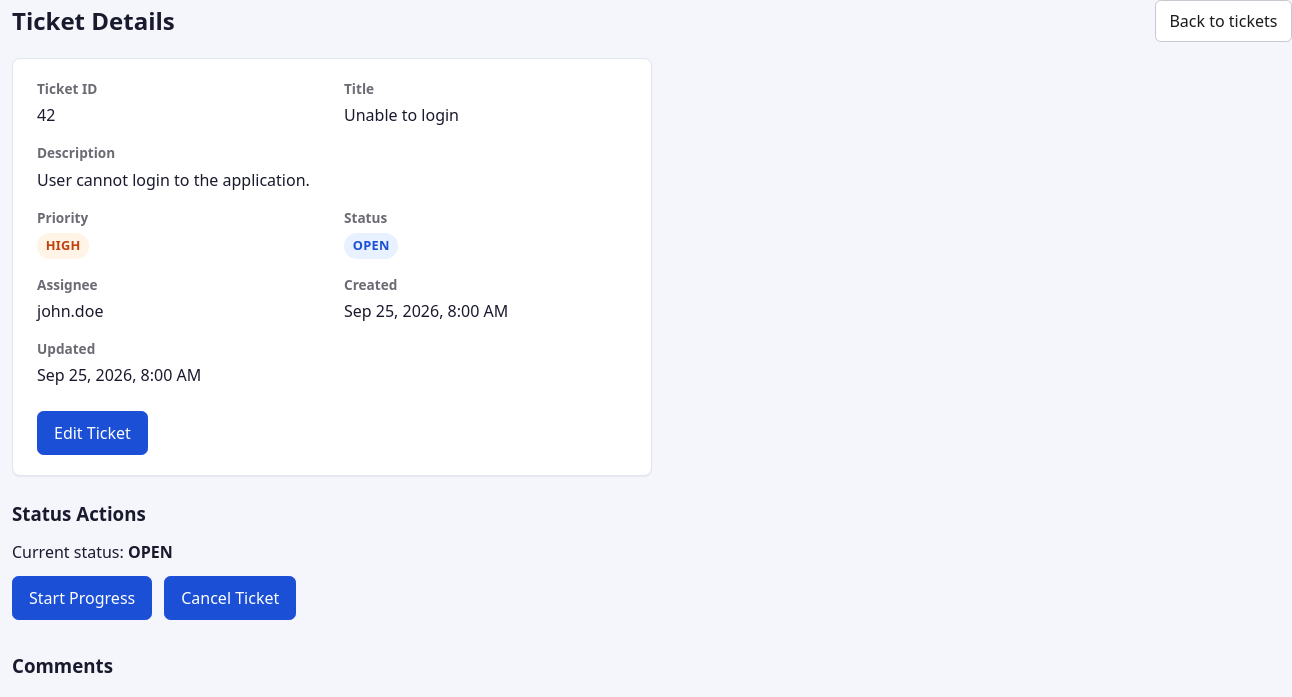
Test: TicketDetailsPage › prevents duplicate save requests while saving
Expected: the text "Unable to login" is shown, [344,104,459,126]
Click the button "Edit Ticket": click(92, 433) [37,411,148,455]
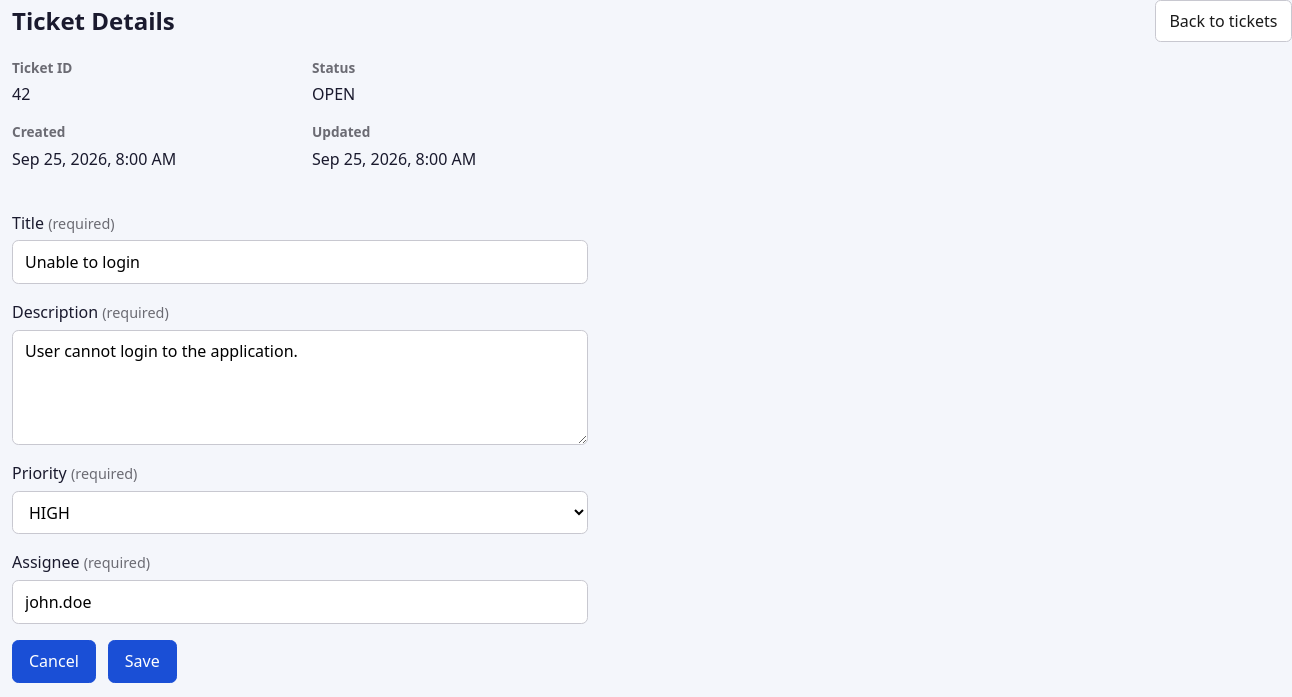
Click the button "Save": click(142, 661) [108,640,177,683]
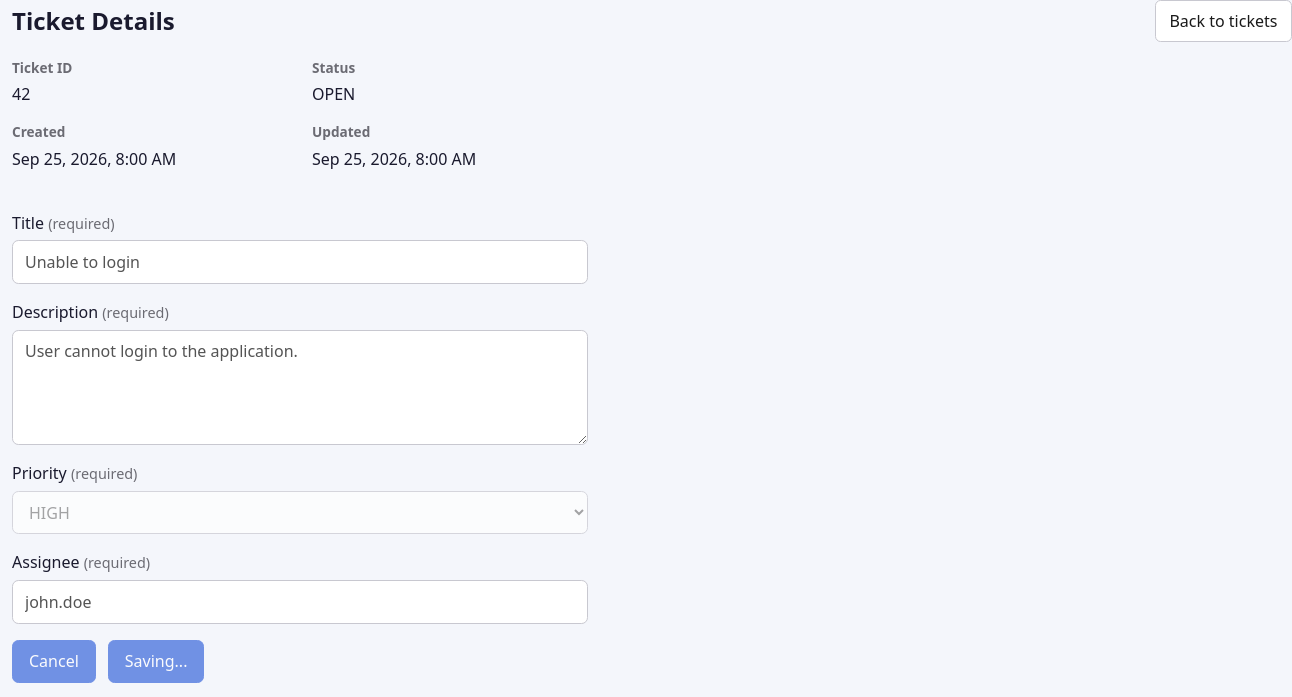
Expected: the button "Saving..." is disabled
Click the button "Saving...": click(156, 661) [108,640,204,683]
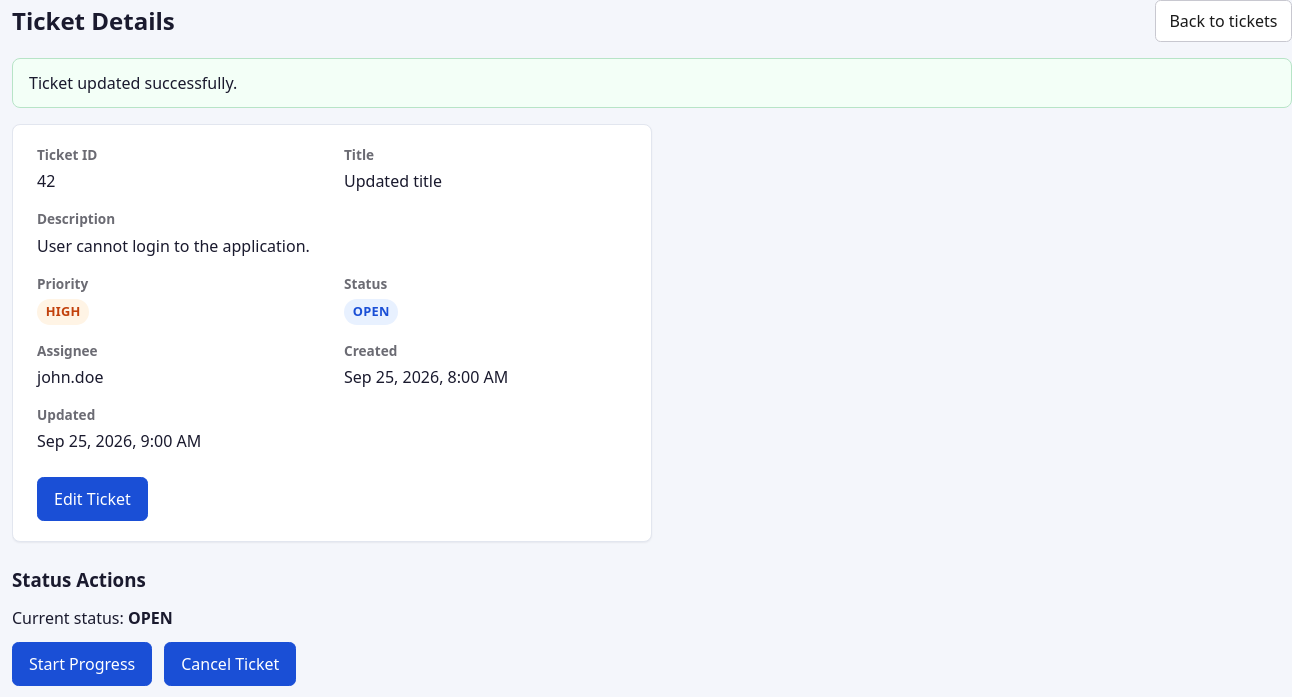
Expected: the text "Ticket updated successfully." is shown, [29,72,237,94]
